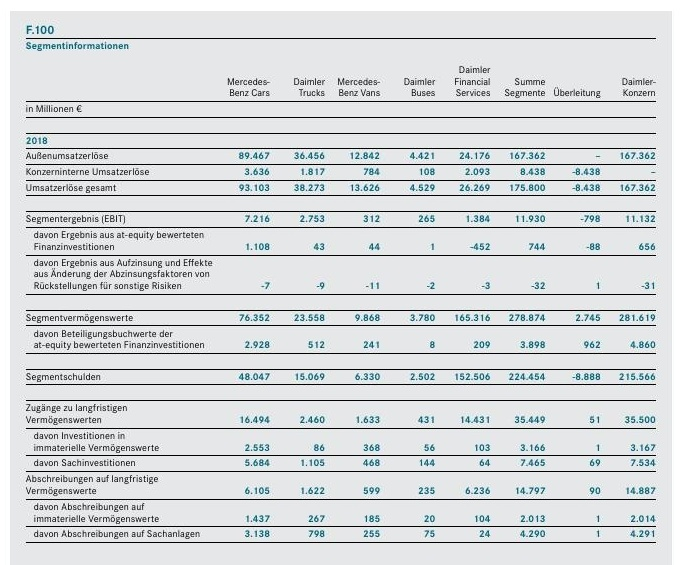table: (0, 0, 683, 565)
